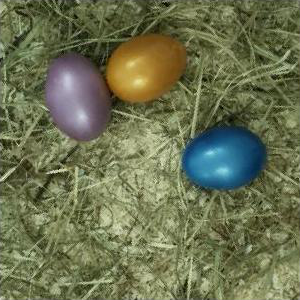egg: (41, 53, 112, 142), (105, 33, 188, 104), (181, 125, 266, 189)
